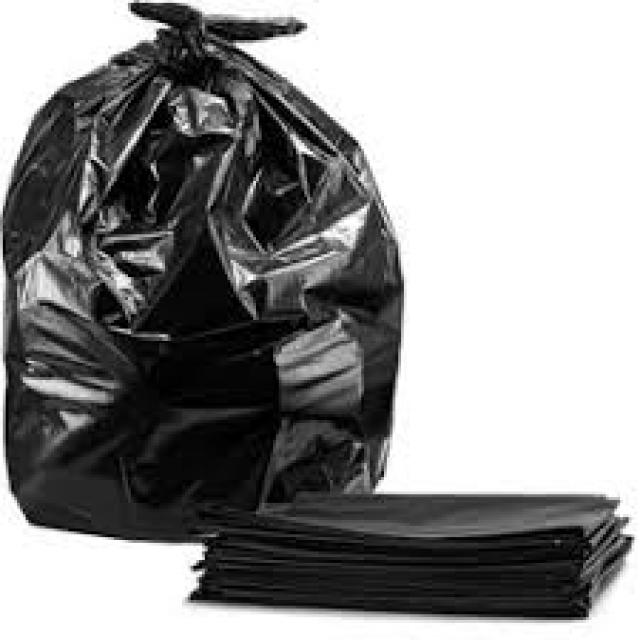plastic_bag: (4, 18, 411, 533)
